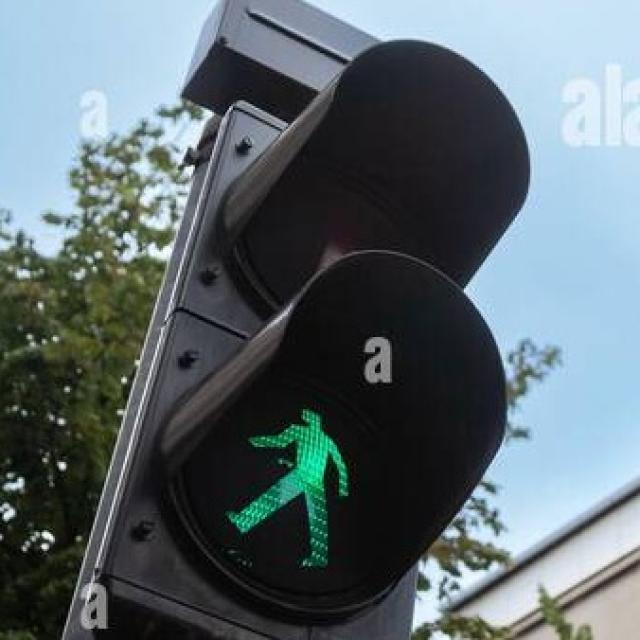green_light: (238, 382, 354, 574)
